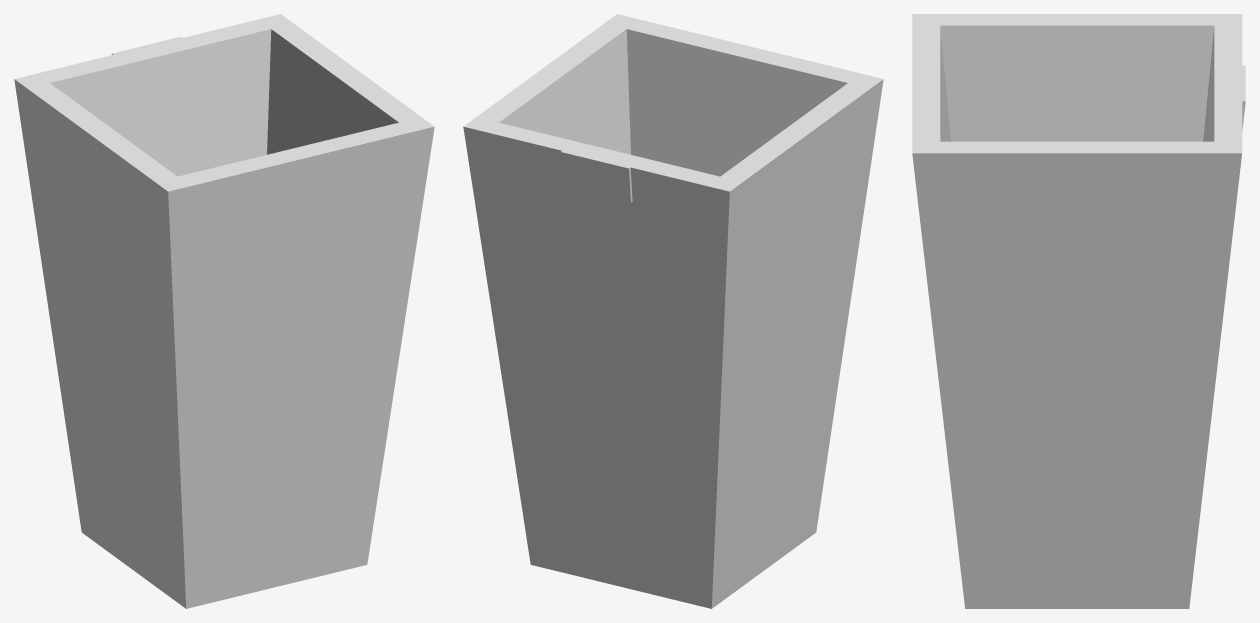
The model's file is Itr_Trashcan1_Body_01.FBX.
3 renders of one model, left to right at view 1: azimuth 30°, elevation 25°; view 2: azimuth 150°, elevation 25°; view 3: azimuth 270°, elevation 25°, orthographic. The views are drawn at different scales.
Visible parts, largest first — view 1: Itr_Trashcan1_Body_01; view 2: Itr_Trashcan1_Body_01; view 3: Itr_Trashcan1_Body_01.
Boxes of the visible parts, x1,y1,x2,y2 form: Itr_Trashcan1_Body_01: (14,14,434,608); Itr_Trashcan1_Body_01: (463,14,883,608); Itr_Trashcan1_Body_01: (912,14,1245,608).
Bounding box in the file's own units: 14.85 × 23.74 × 15.01.
